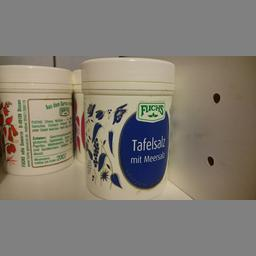spices: (79, 56, 175, 198), (0, 63, 74, 175)
